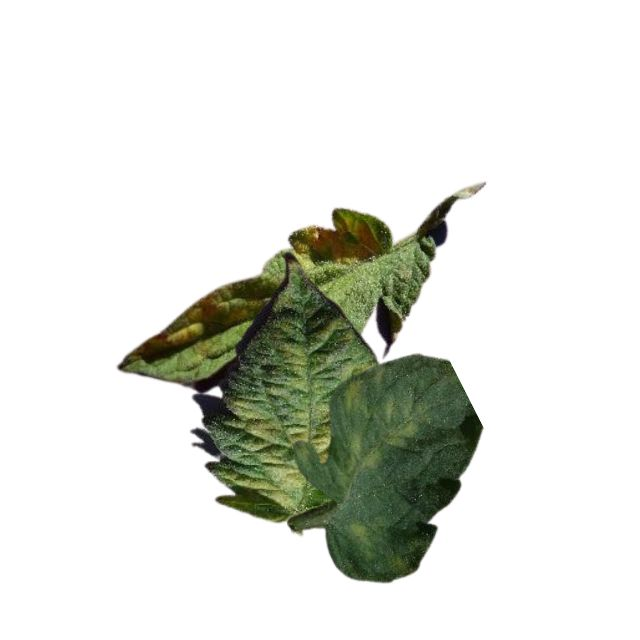Leaf_Mold: (221, 392, 330, 516), (112, 278, 271, 358), (338, 395, 427, 474), (286, 214, 380, 270), (346, 516, 412, 580), (339, 378, 369, 416)
